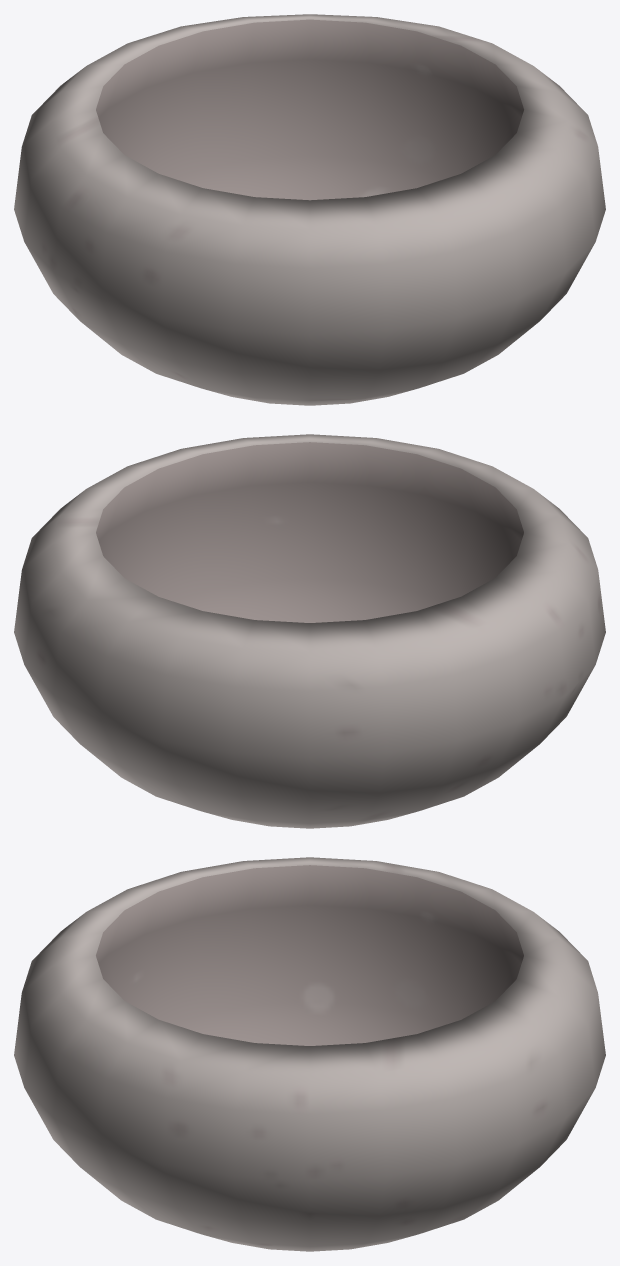
The model's file is Mortar.fbx.
3 views of the same model, one above another, from view 1: azimuth 30°, elevation 25°; view 2: azimuth 150°, elevation 25°; view 3: azimuth 270°, elevation 25° (orthographic).
Parts seen in each view (by area): view 1: Mortar; view 2: Mortar; view 3: Mortar.
Boxes of the visible parts, x1,y1,x2,y2 form: Mortar: (14, 14, 605, 405); Mortar: (14, 434, 605, 828); Mortar: (14, 857, 605, 1251).
Bounding box in the file's own units: 123 × 56.87 × 123.
Materials: 1 (1 with a texture image).
